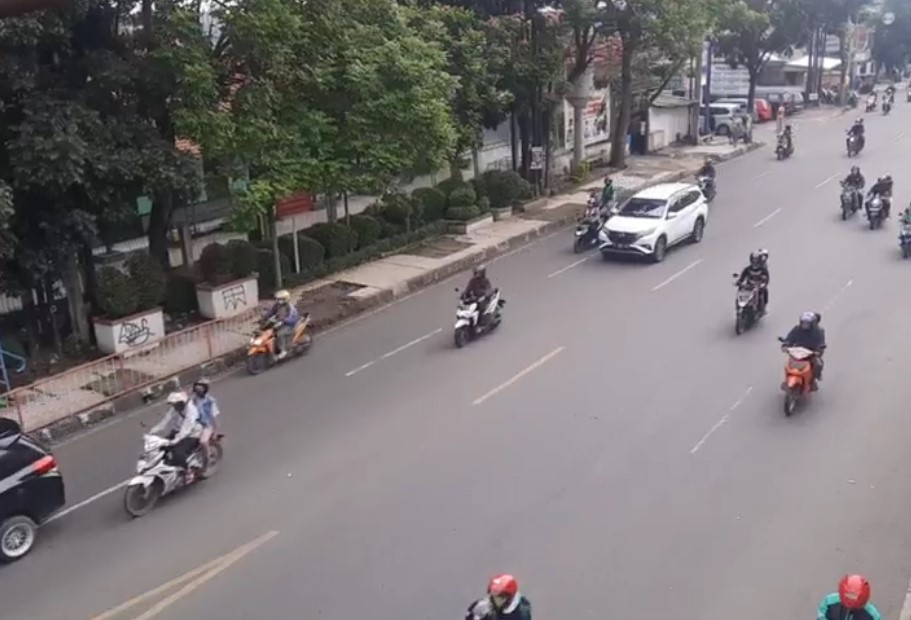motor: (117, 377, 236, 514), (244, 291, 325, 379), (777, 311, 828, 419), (724, 246, 778, 335), (451, 266, 506, 344)
